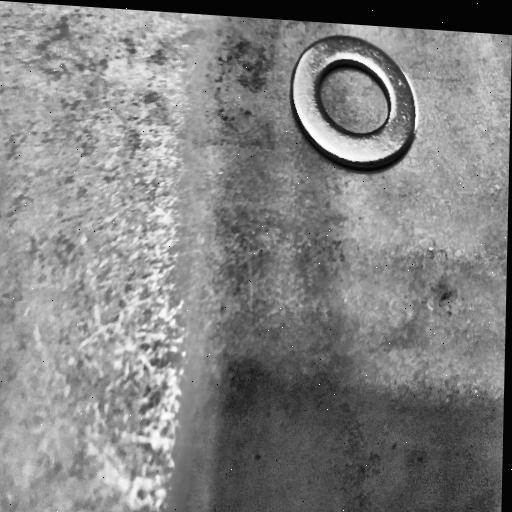Washer: (290, 34, 419, 173)
